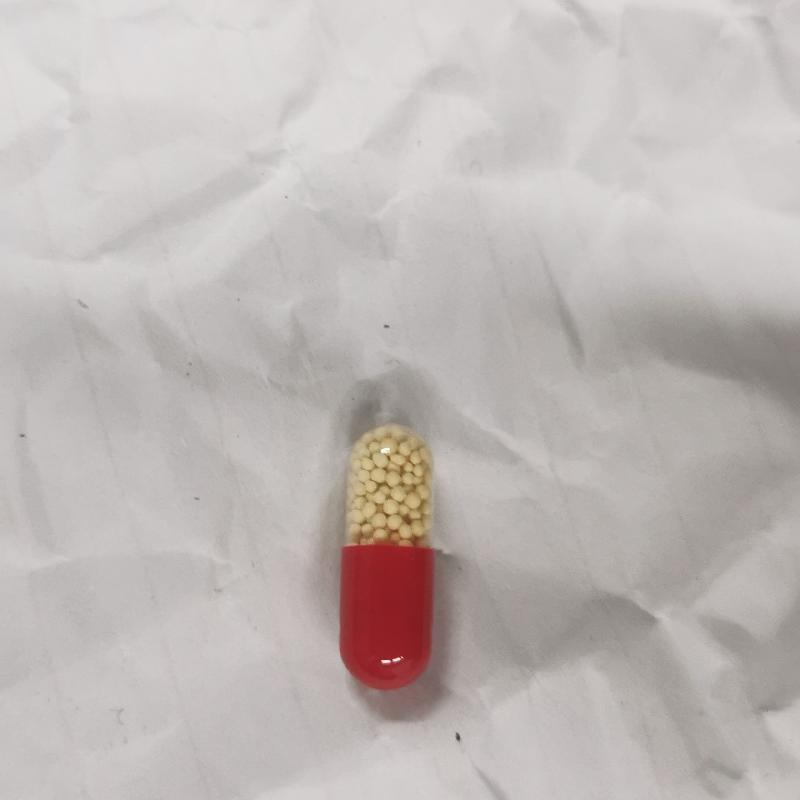pills: (337, 425, 449, 696)
